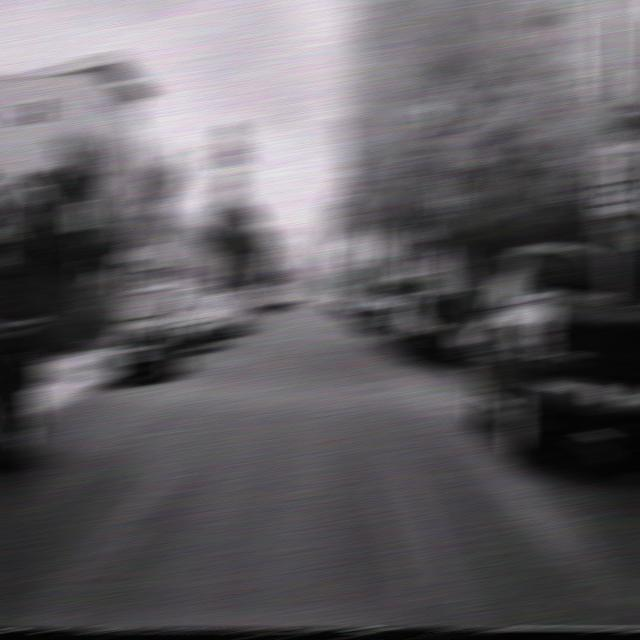speedLimit25: (592, 140, 634, 216)
